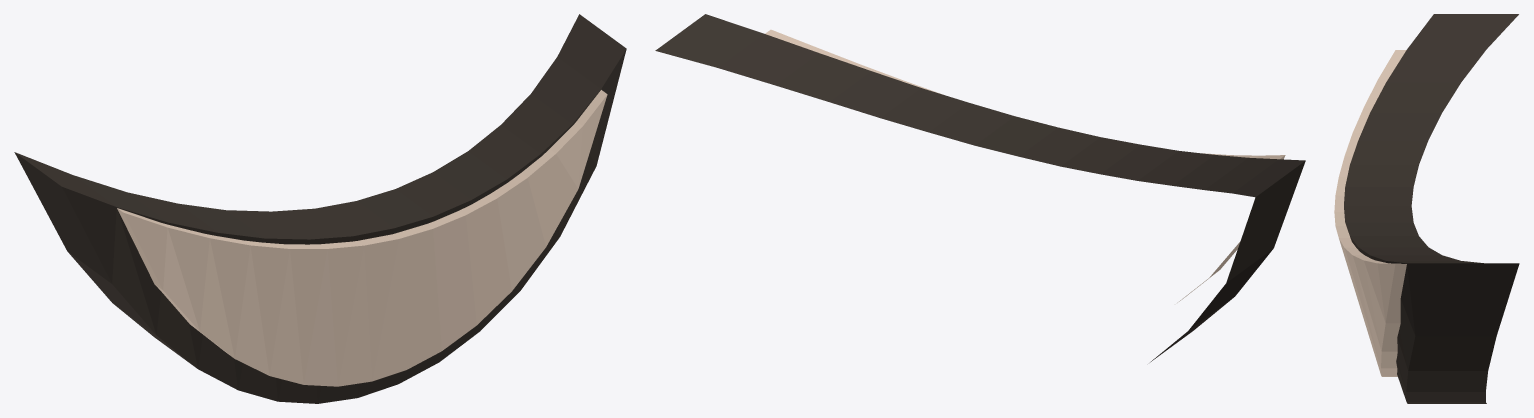
File: bolita-rica-boca.glb
The picture shows the model from 3 angles, left to right: view 1: azimuth 30°, elevation 25°; view 2: azimuth 150°, elevation 25°; view 3: azimuth 270°, elevation 25°; orthographic projection. The views are drawn at different scales.
Parts seen in each view (by area): view 1: bolita-boca; view 2: bolita-boca; view 3: bolita-boca.
Part boxes in pixels (x1=…): bolita-boca: x1=14, y1=14, x2=626, y2=403; bolita-boca: x1=655, y1=14, x2=1305, y2=362; bolita-boca: x1=1334, y1=14, x2=1519, y2=403.
Bounding box in the file's own units: 0.175 × 0.08 × 0.0549.
